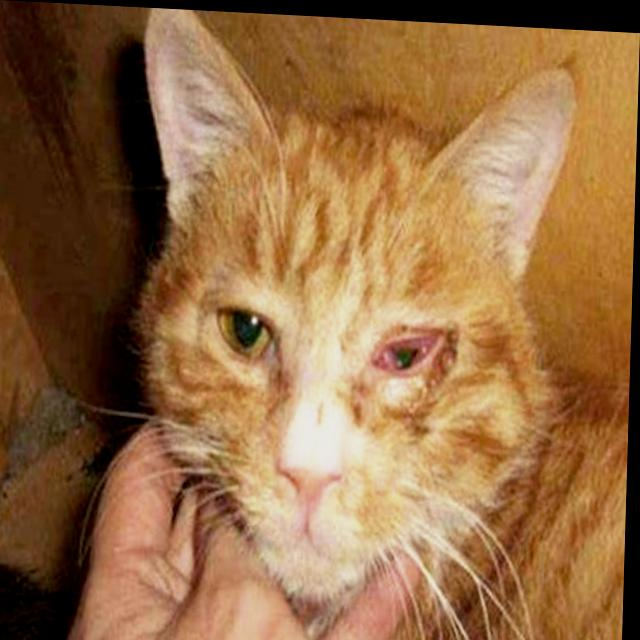eye_infection: (371, 329, 456, 387), (211, 308, 278, 365)
